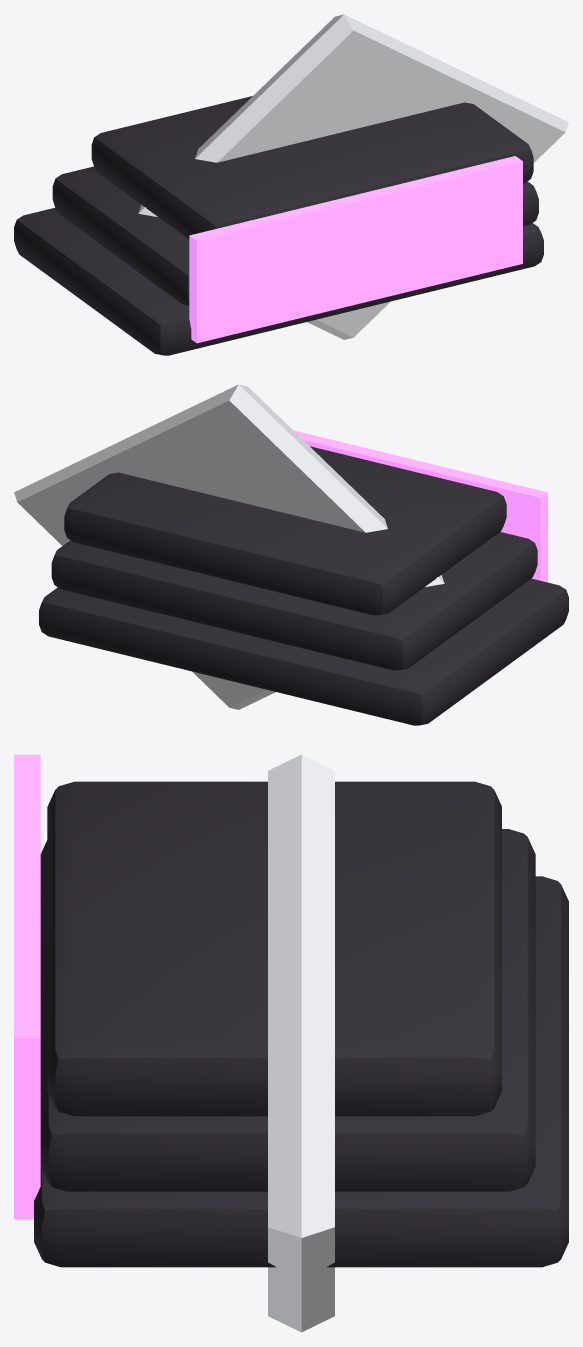
Rendered from shadow_silk.glb.
The picture shows the model from 3 angles, top to bottom: view 1: azimuth 30°, elevation 25°; view 2: azimuth 150°, elevation 25°; view 3: azimuth 270°, elevation 25°; orthographic projection. The views are drawn at different scales.
Parts seen in each view (by area): view 1: shadow_silk; view 2: shadow_silk; view 3: shadow_silk.
Part boxes in pixels (<box>): shadow_silk: <box>14,14,568,355</box>; shadow_silk: <box>14,384,568,725</box>; shadow_silk: <box>14,754,568,1332</box>.
Size of the model in its own units: 0.1489 by 0.0954 by 0.083.
